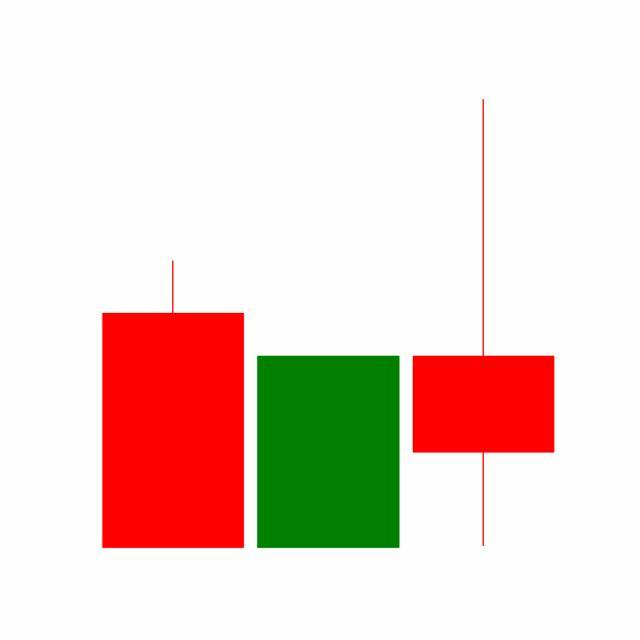Marubozu: (250, 354, 407, 550)
